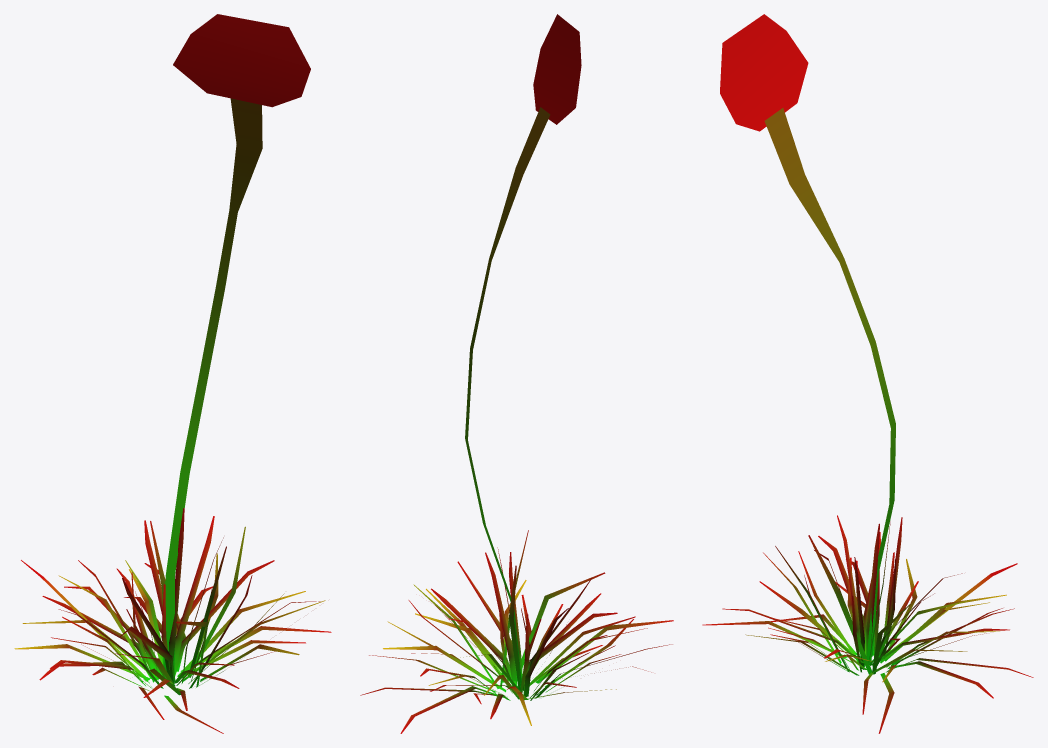
File: Var10_LOD3.fbx
The picture shows the model from 3 angles, left to right: view 1: azimuth 30°, elevation 25°; view 2: azimuth 150°, elevation 25°; view 3: azimuth 270°, elevation 25°; orthographic projection. The views are drawn at different scales.
Visible parts, largest first — view 1: _rf52_Var10_LOD3; view 2: _rf52_Var10_LOD3; view 3: _rf52_Var10_LOD3.
Boxes of the visible parts, x1=… form: _rf52_Var10_LOD3: x1=14, y1=14, x2=331, y2=733; _rf52_Var10_LOD3: x1=360, y1=14, x2=673, y2=733; _rf52_Var10_LOD3: x1=702, y1=14, x2=1033, y2=733.
Size of the model in its own units: 7.88 by 17.08 by 7.93.
